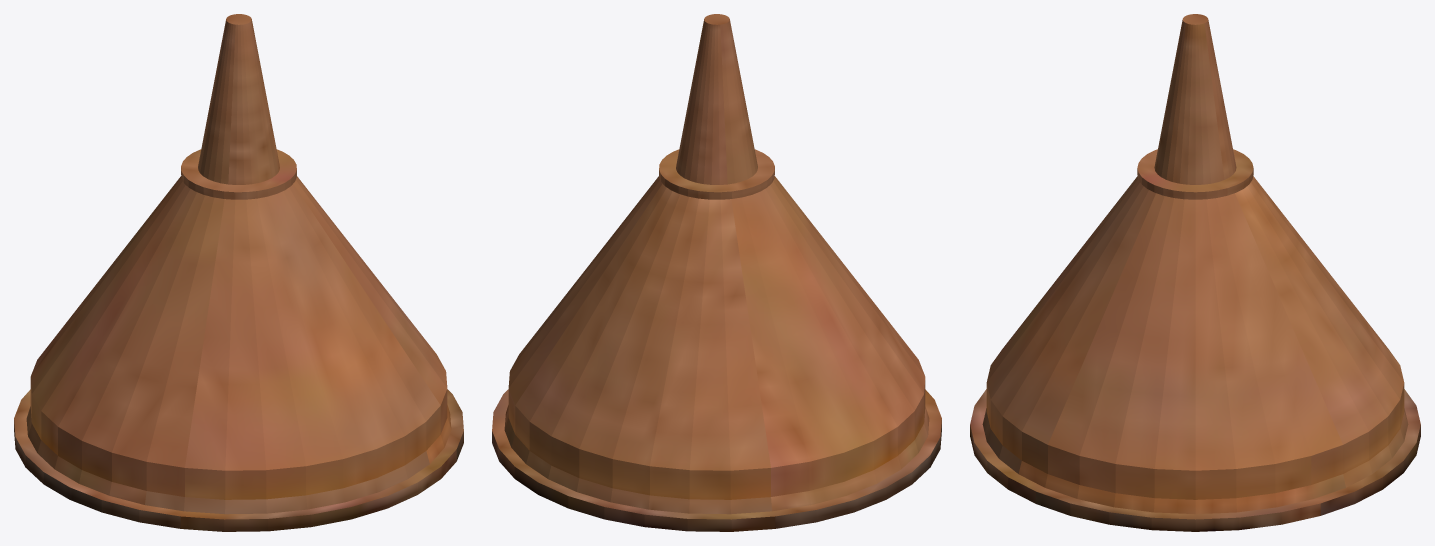
File: funnel.fbx
3 views of the same model, side by side, from view 1: azimuth 30°, elevation 25°; view 2: azimuth 150°, elevation 25°; view 3: azimuth 270°, elevation 25° (orthographic).
Parts seen in each view (by area): view 1: funnel; view 2: funnel; view 3: funnel.
Boxes of the visible parts, <box> form: funnel: <box>14,14,463,531</box>; funnel: <box>492,14,941,531</box>; funnel: <box>970,14,1420,531</box>.
Bounding box in the file's own units: 160 × 164 × 160.
